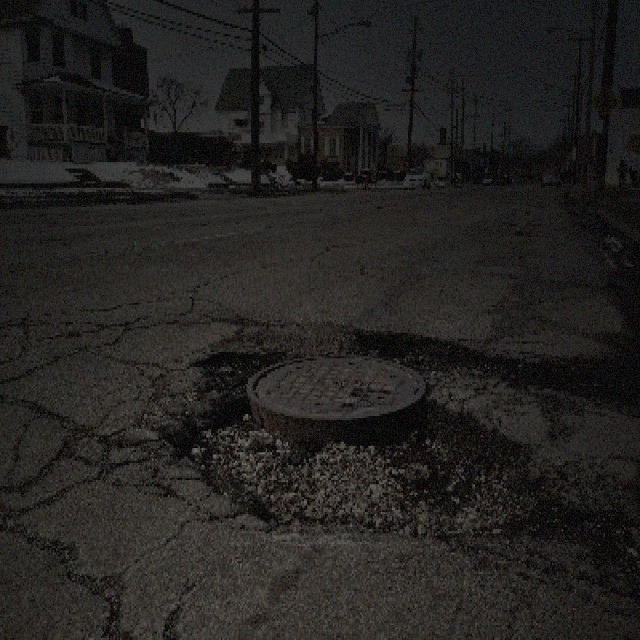pothole: (167, 348, 546, 546), (351, 324, 474, 376)
